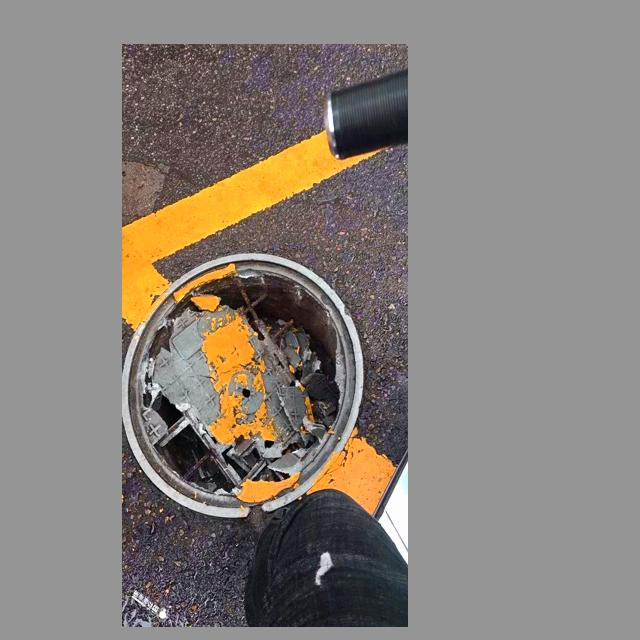broke: (127, 242, 371, 515)
